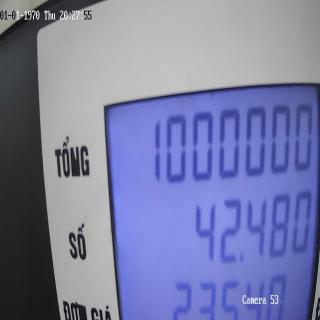screen: (97, 70, 318, 320)
